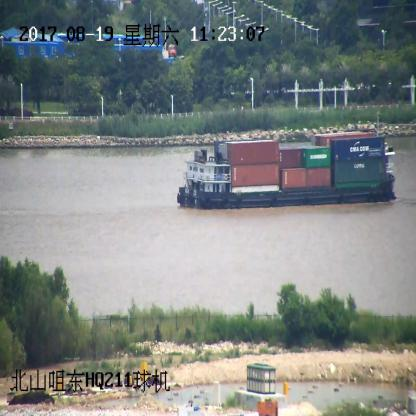Container Ship: (178, 114, 395, 211)
